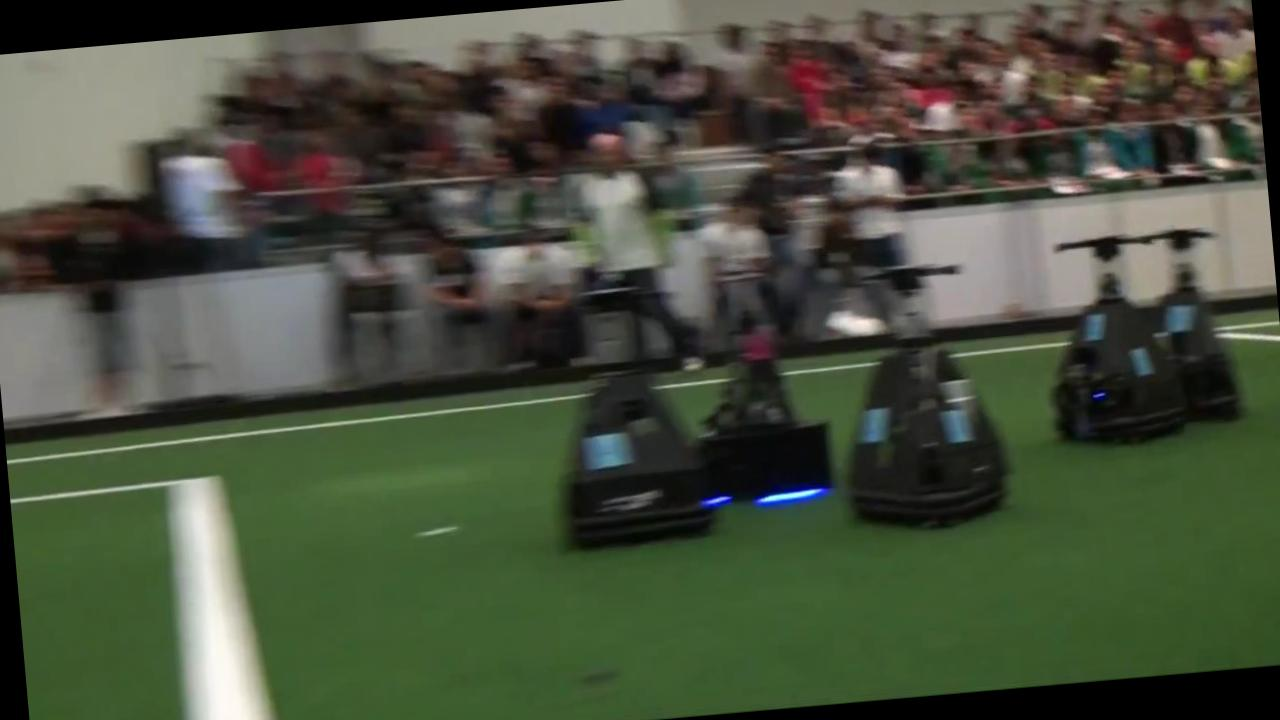robot: (850, 264, 1006, 523), (1052, 235, 1187, 438), (561, 372, 712, 546), (700, 320, 832, 500), (1154, 228, 1237, 419)
